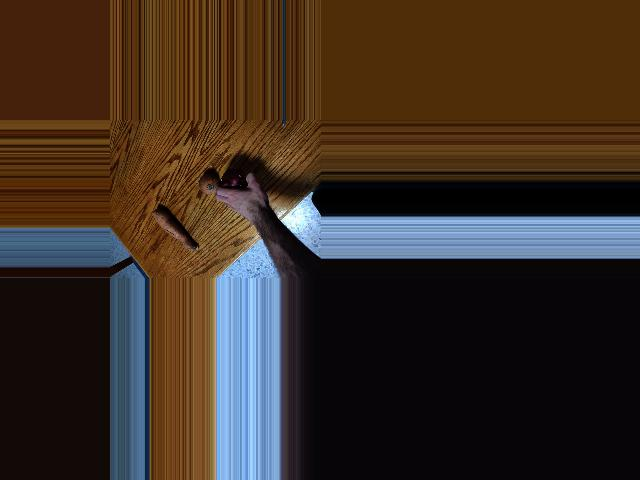onion: (198, 172, 219, 195)
